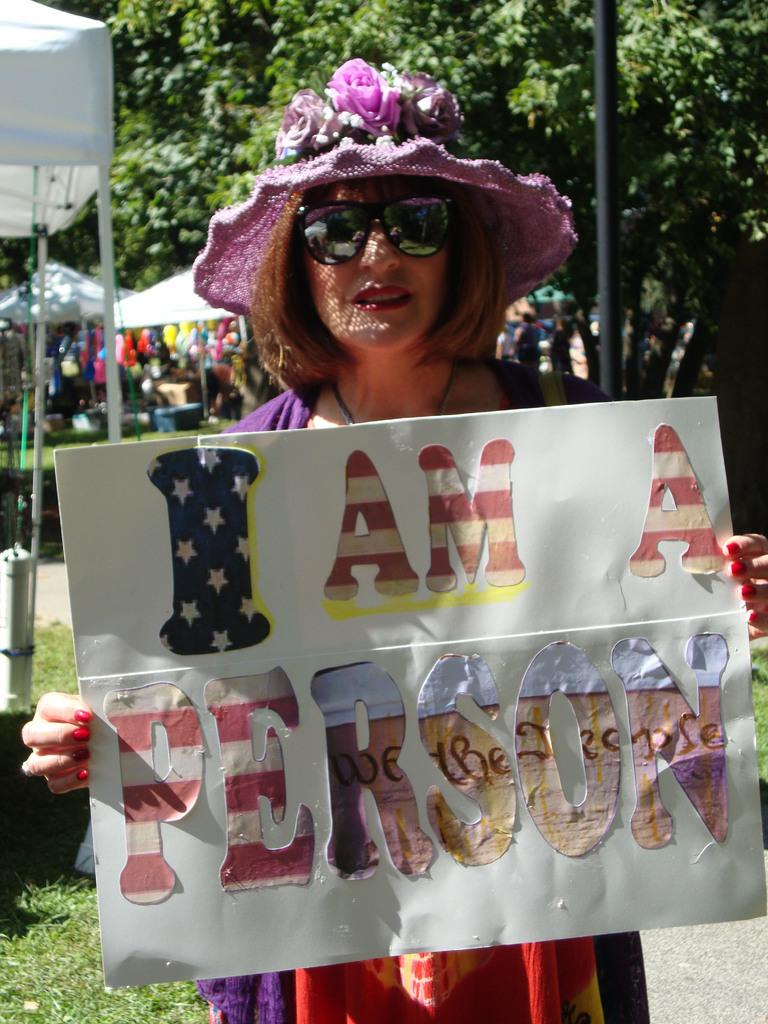Hat: (182, 57, 576, 334)
